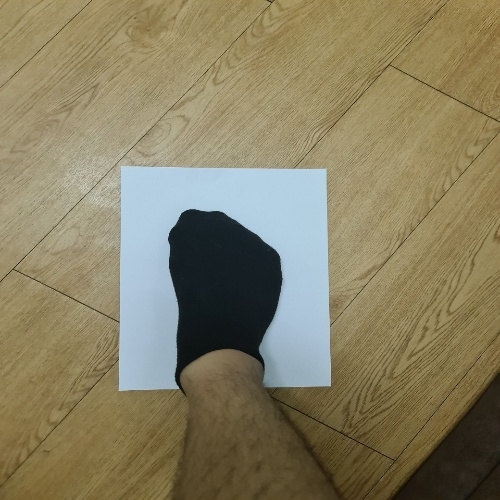Top_Foot: (103, 148, 346, 406)
